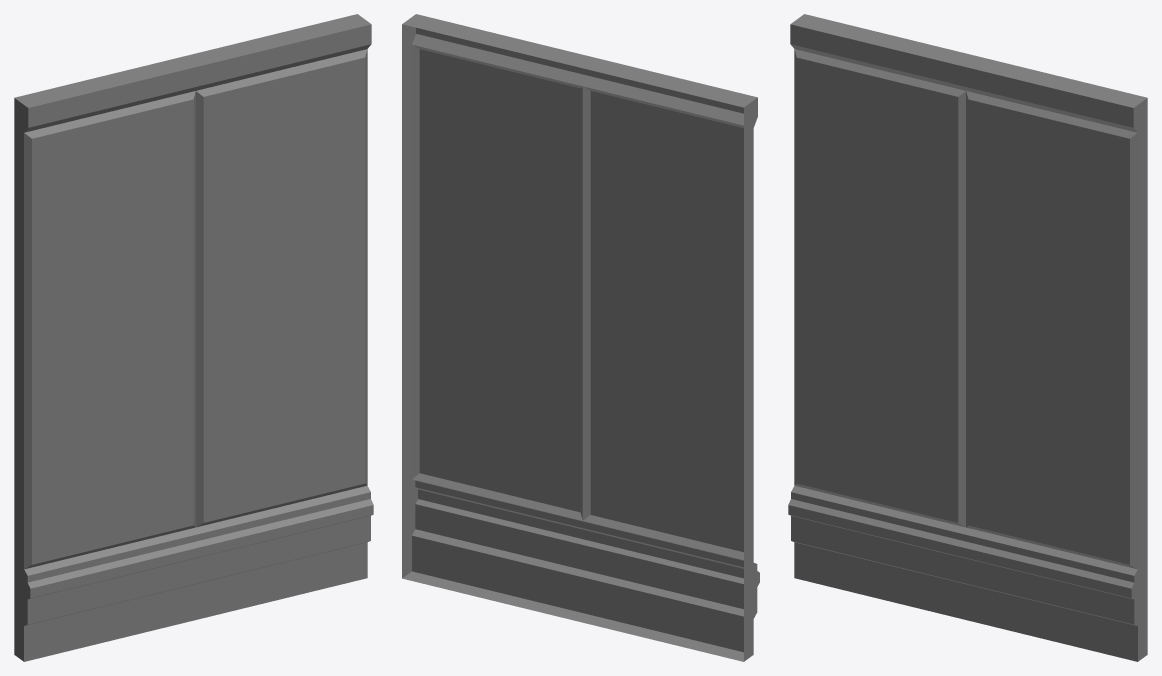
The model's file is Wall3.fbx.
The picture shows the model from 3 angles, left to right: view 1: azimuth 30°, elevation 25°; view 2: azimuth 150°, elevation 25°; view 3: azimuth 330°, elevation 25°; orthographic projection.
Visible parts, largest first — view 1: Wall3; view 2: Wall3; view 3: Wall3.
Part boxes in pixels (x1,y1,x2,y2): Wall3: (14, 14, 373, 661); Wall3: (402, 14, 759, 661); Wall3: (788, 14, 1147, 661).
Bounding box in the file's own units: 200 × 310 × 16.28.
